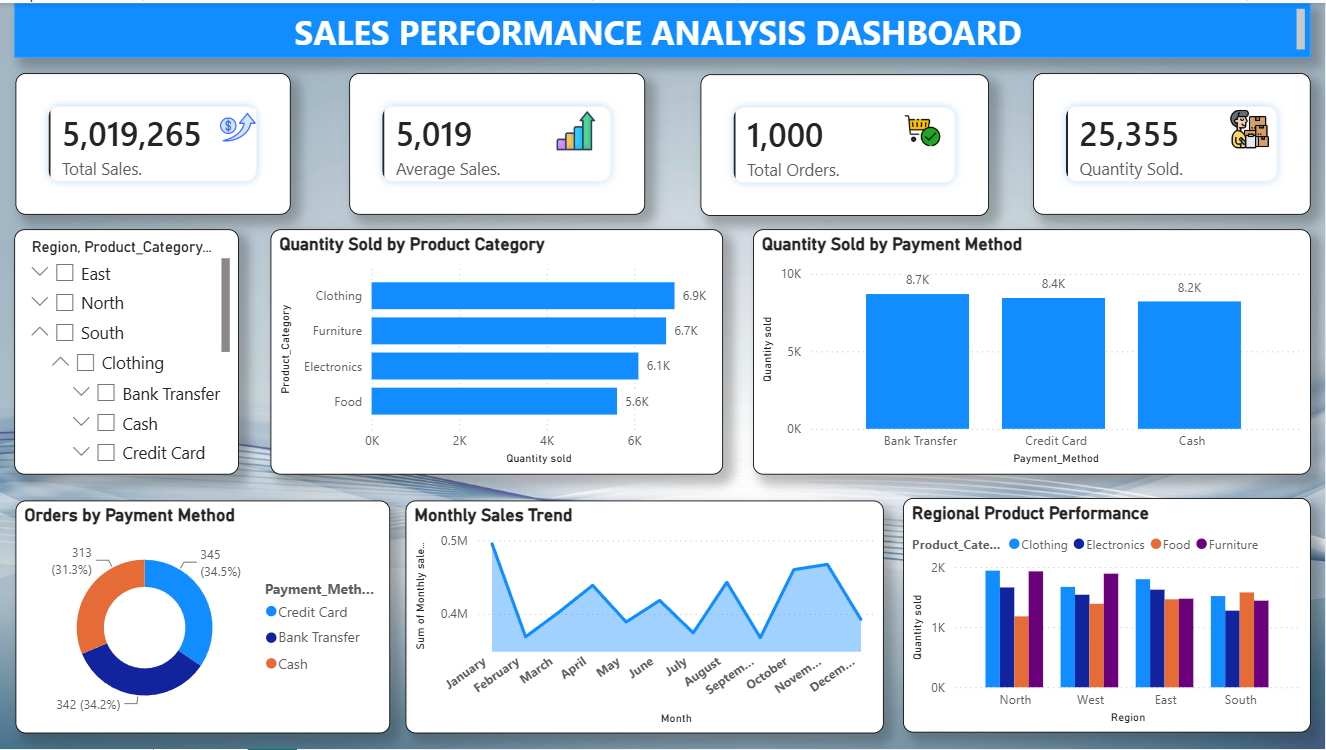

The dashboard page shown, as its layout file describes it:
{"tool":"powerbi","page":{"name":"Page 1","canvas":[1280,720],"ordinal":0},"visuals":[{"type":"shape","box":[10.1,1.4,1269.6,70.7],"z":0},{"type":"clusteredColumnChart","title":"Orders by Payment Method","fields":{"Category":["sales_data.Payment_Method"],"Y":["Sum(sales_data.Quantity_Sold)"]},"box":[694.2,201.2,575.6,255.8],"z":1000},{"type":"donutChart","fields":{"Category":["sales_data.Payment_Method"],"Y":["sales_data.Total Orders"]},"box":[403.5,467.4,410.5,238.4],"z":2000},{"type":"card","fields":{"Values":["Sum(sales_data.Quantity_Sold)"]},"box":[10.5,77.9,179.1,110.5],"z":3000},{"type":"clusteredBarChart","title":"Sales by Product Category","fields":{"Category":["sales_data.Product_Category"],"Y":["Sum(sales_data.Quantity_Sold)"]},"box":[246.5,201.2,427.9,255.8],"z":5000},{"type":"areaChart","title":"Monthly Sales Trend","fields":{"Category":["sales_data.Sale_Date.Variation.Date Hierarchy.Month"],"Y":["CountNonNull(sales_data.Sales_Amount)"]},"box":[10.5,467.4,382.6,238.4],"z":6000},{"type":"cardVisual","fields":{"Data":["sales_data.Total Orders"]},"box":[381.4,77.9,177.9,110.5],"z":7000},{"type":"clusteredColumnChart","fields":{"Category":["sales_data.Region"],"Series":["sales_data.Product_Category"],"Y":["Sum(sales_data.Quantity_Sold)"]},"box":[823.3,467.4,440.7,238.4],"z":8000},{"type":"slicer","fields":{"Values":["sales_data.Region","sales_data.Product_Category","sales_data.Payment_Method","sales_data.Sale_Date.Variation.Date Hierarchy.Month"]},"box":[9.3,201.2,226.7,255.8],"z":9000},{"type":"image","box":[744.2,9.3,189.5,54.7],"z":10000},{"type":"image","box":[100,97.7,134.9,38.4],"z":11000},{"type":"image","box":[460.5,97.7,143,38.4],"z":12000},{"type":"cardVisual","fields":{"Data":["sales_data.Average Sales"]},"box":[733.7,77.9,177.9,110.5],"z":13000},{"type":"image","box":[823.3,82.6,96.5,60.5],"z":14000},{"type":"cardVisual","fields":{"Data":["sales_data.Total Sales"]},"box":[1086,77.9,179.1,110.5],"z":15000},{"type":"image","box":[1175.6,89.5,100,53.5],"z":16000}]}

Visuals, with their boxes in screenshot pixels (x1, y1, x2, y2), scaled from the page's 1280x720 canvas onto the 1326x750 screenshot:
shape: bbox=[10, 1, 1325, 75]
"Orders by Payment Method" clusteredColumnChart: bbox=[719, 210, 1315, 476]
donutChart - sales_data.Payment_Method x sales_data.Total Orders: bbox=[418, 487, 843, 735]
card - Sum(sales_data.Quantity_Sold): bbox=[11, 81, 196, 196]
"Sales by Product Category" clusteredBarChart: bbox=[255, 210, 699, 476]
"Monthly Sales Trend" areaChart: bbox=[11, 487, 407, 735]
cardVisual - sales_data.Total Orders: bbox=[395, 81, 579, 196]
clusteredColumnChart - sales_data.Region x sales_data.Product_Category: bbox=[853, 487, 1309, 735]
slicer - sales_data.Region x sales_data.Product_Category: bbox=[10, 210, 244, 476]
image: bbox=[771, 10, 967, 67]
image: bbox=[104, 102, 243, 142]
image: bbox=[477, 102, 625, 142]
cardVisual - sales_data.Average Sales: bbox=[760, 81, 944, 196]
image: bbox=[853, 86, 953, 149]
cardVisual - sales_data.Total Sales: bbox=[1125, 81, 1311, 196]
image: bbox=[1218, 93, 1321, 149]
